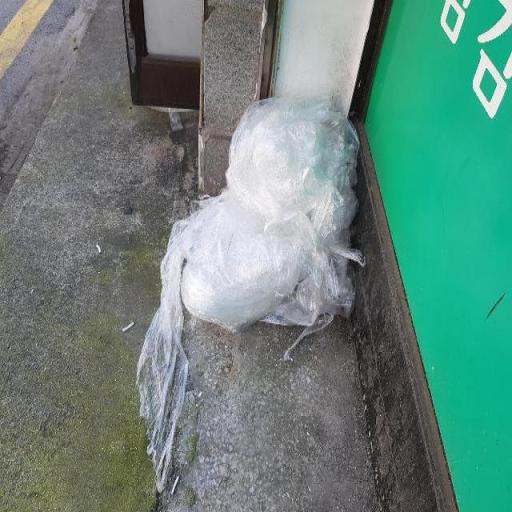plastic-bag: (165, 91, 363, 339)
